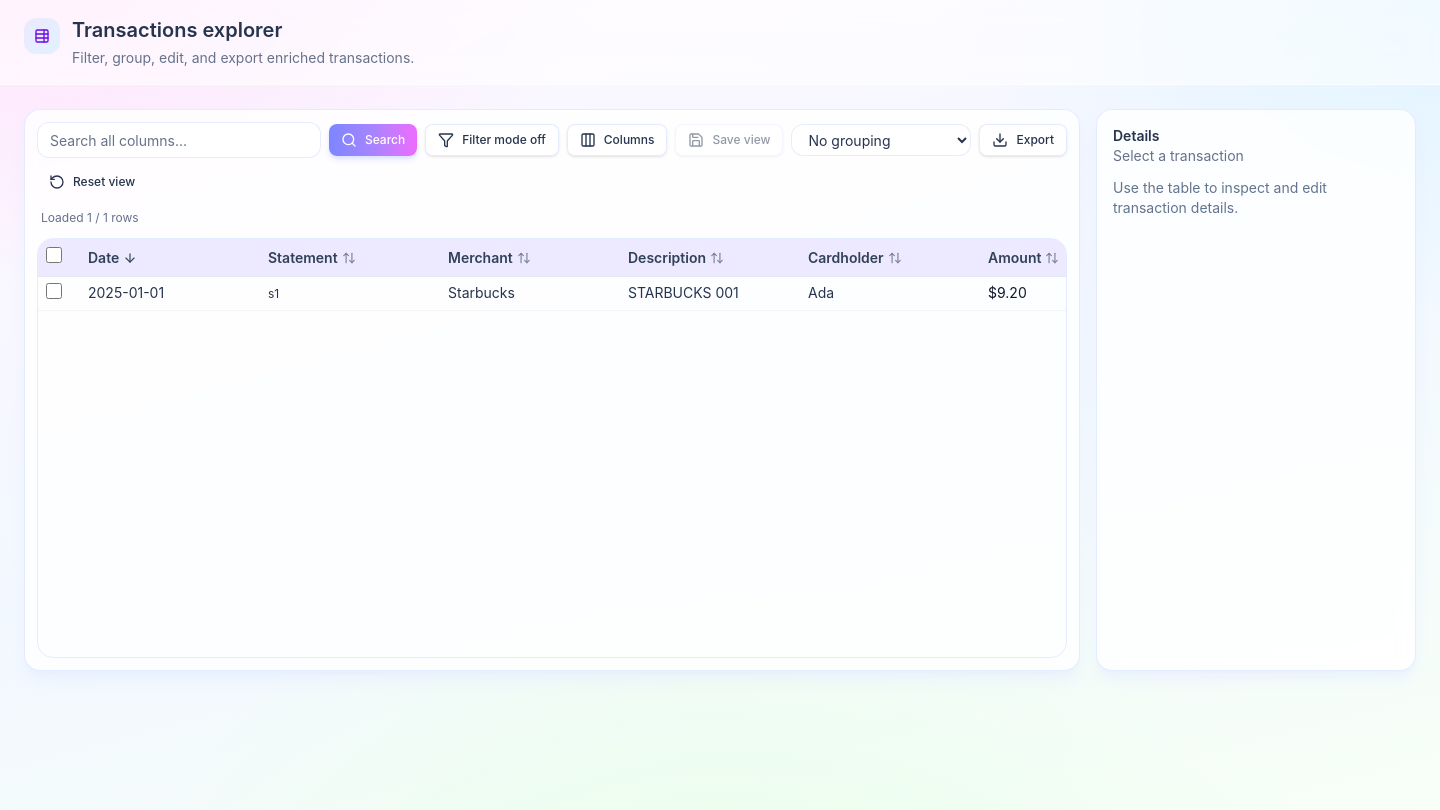
Test: ui flows › filters transactions by search query
This screenshot has width=1440, height=810.
Check: the text "STARBUCKS 001" is shown, box [620,276,800,310]
Type "nonexistent" into the field with placeholder "Search all columns..." at (179, 140), box [37,122,321,158]
Then press Enter
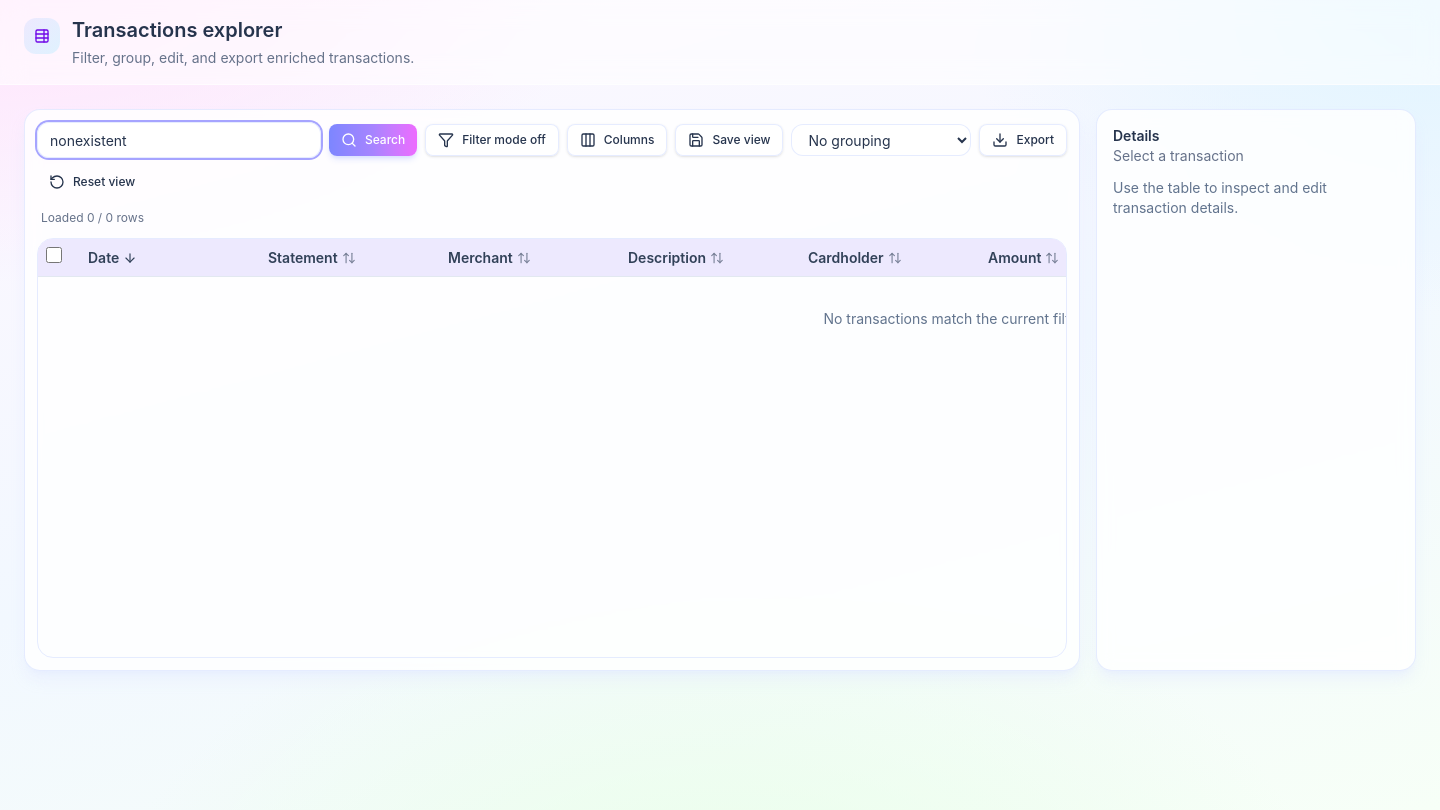
Check: the text "STARBUCKS 001" is gone
